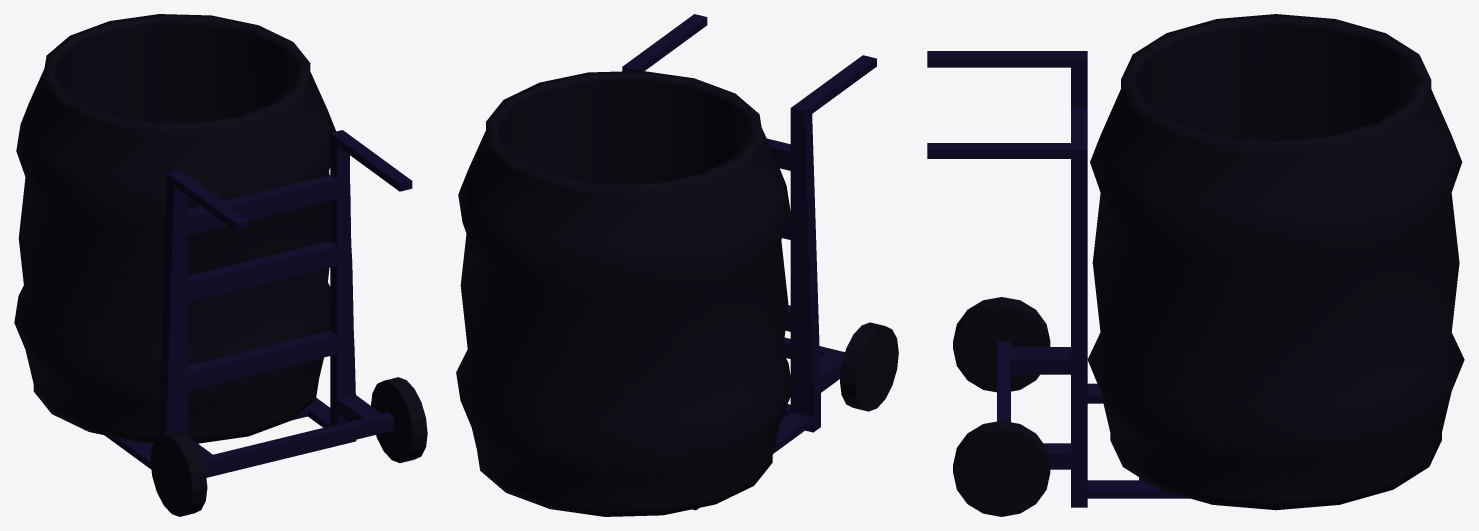
Rendered from MESH_PROP_Carrinho_Tambor.fbx.
3 renders of one model, left to right at view 1: azimuth 30°, elevation 25°; view 2: azimuth 150°, elevation 25°; view 3: azimuth 270°, elevation 25°, orthographic. The views are drawn at different scales.
Visible parts, largest first — view 1: Carrinho_Tambor; view 2: Carrinho_Tambor; view 3: Carrinho_Tambor.
Part boxes in pixels (x1,y1,x2,y2): Carrinho_Tambor: (14, 14, 427, 516); Carrinho_Tambor: (456, 14, 898, 516); Carrinho_Tambor: (927, 14, 1464, 516).
Size of the model in its own units: 110 by 122 by 157.
